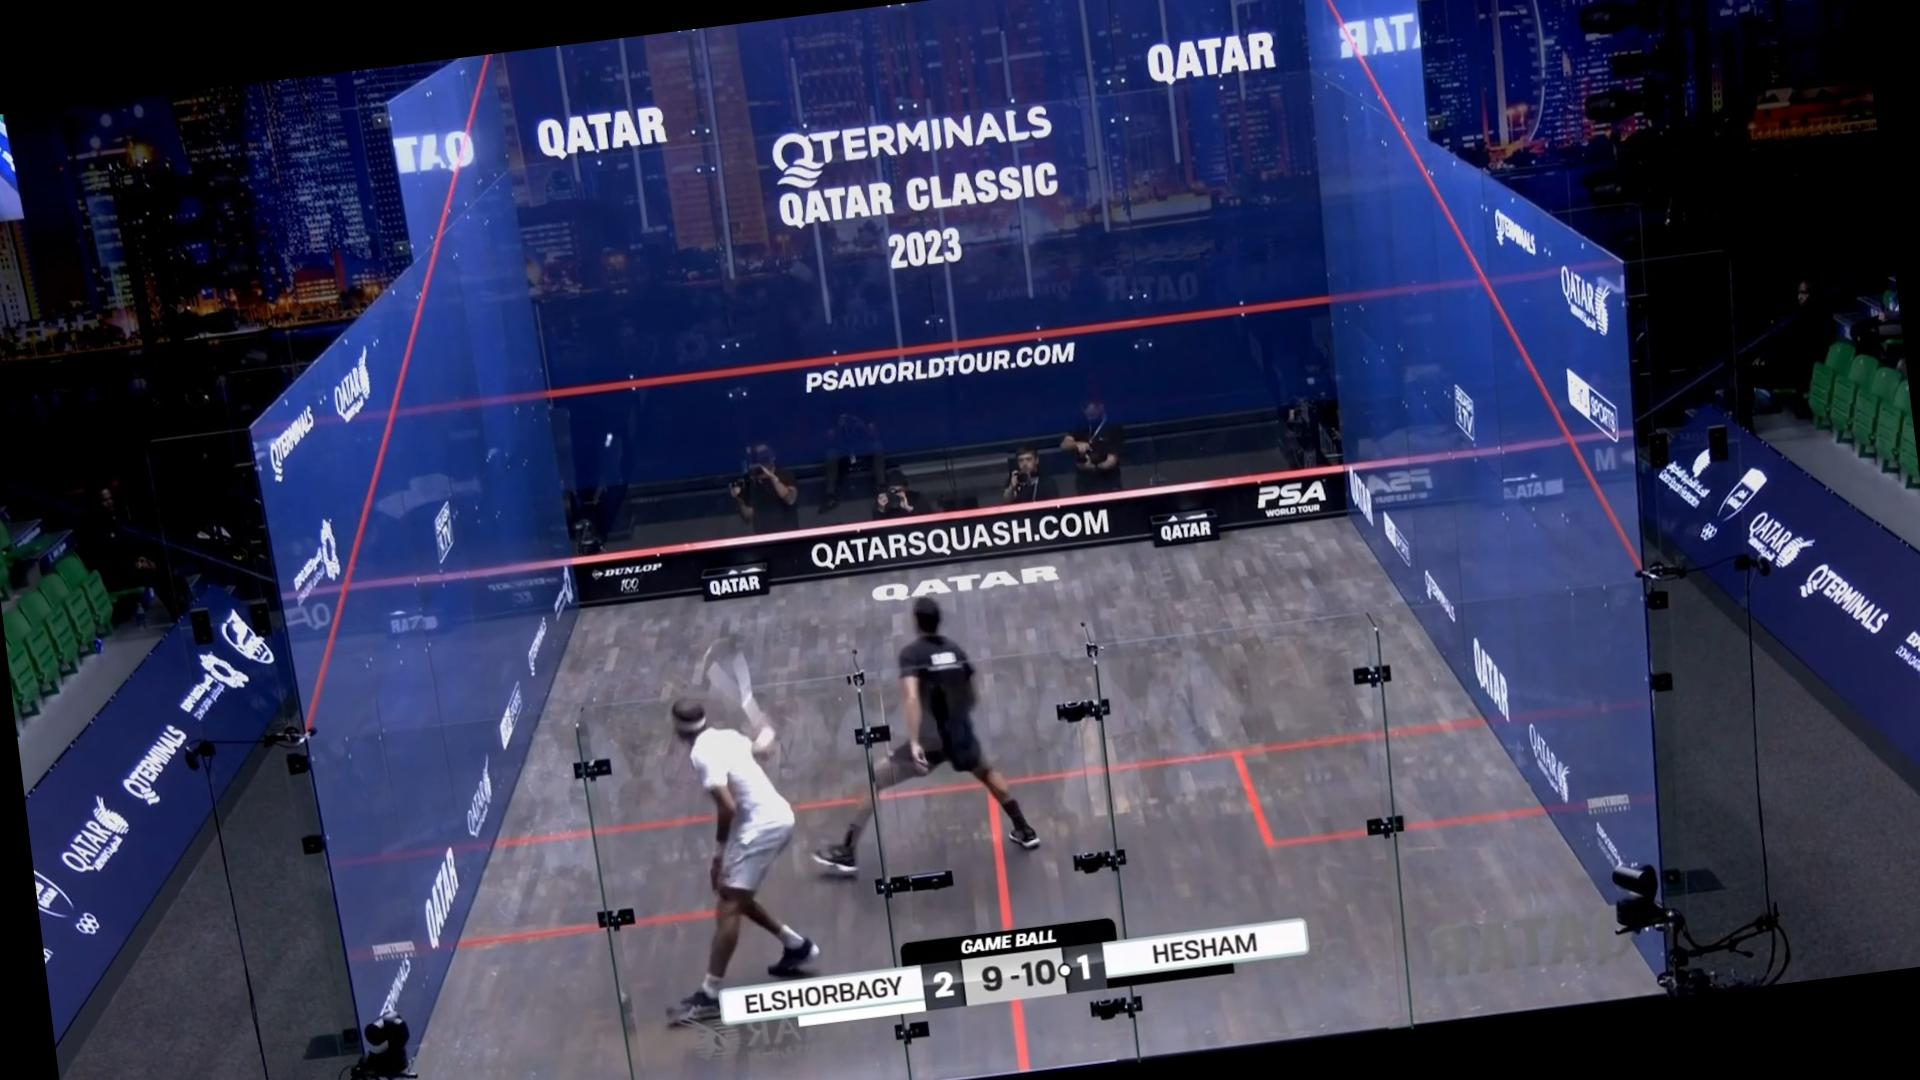Squash-Ball: (597, 426, 622, 452)
